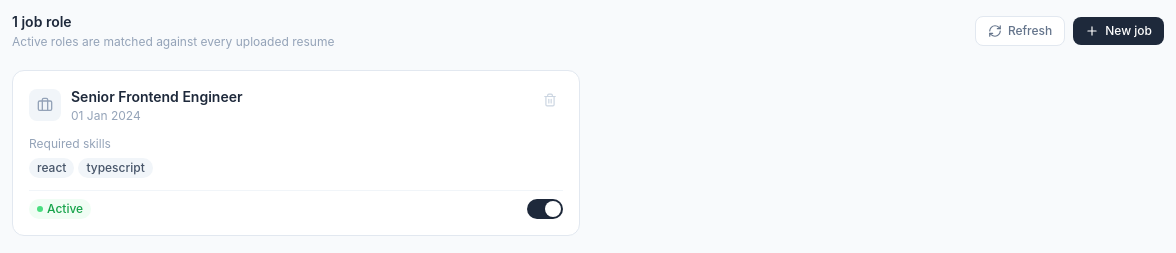
Test: JobsPage — delete › hides the confirm buttons when cancel is clicked
Click the button named "Delete Senior Frontend Engineer" at (550, 100), box [537,87,563,113]
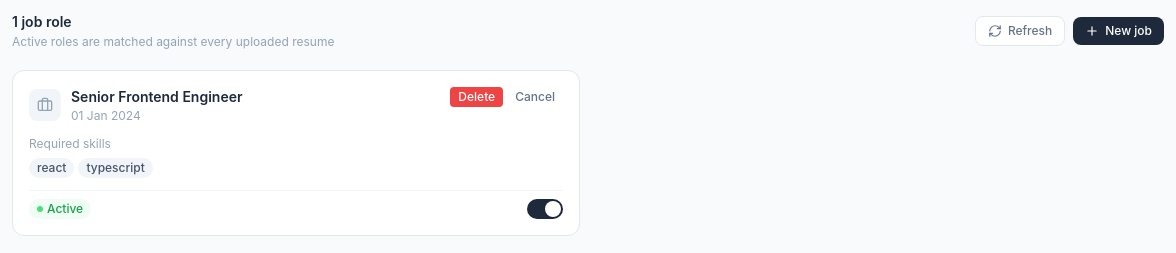
Click the button "Cancel" at (535, 97), box [507,87,563,107]
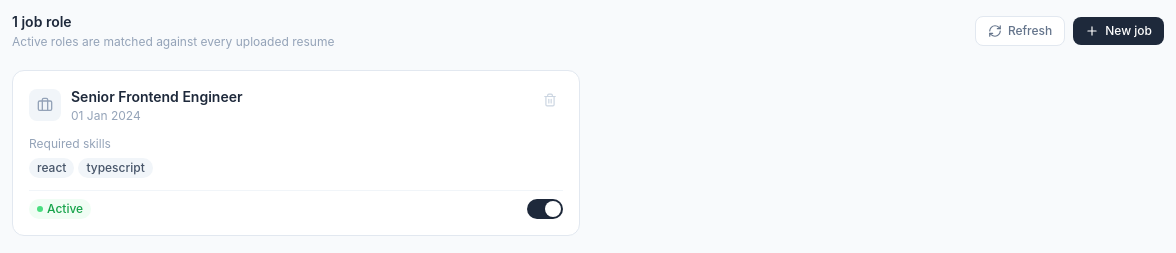
Expected: the button "Delete" is gone
